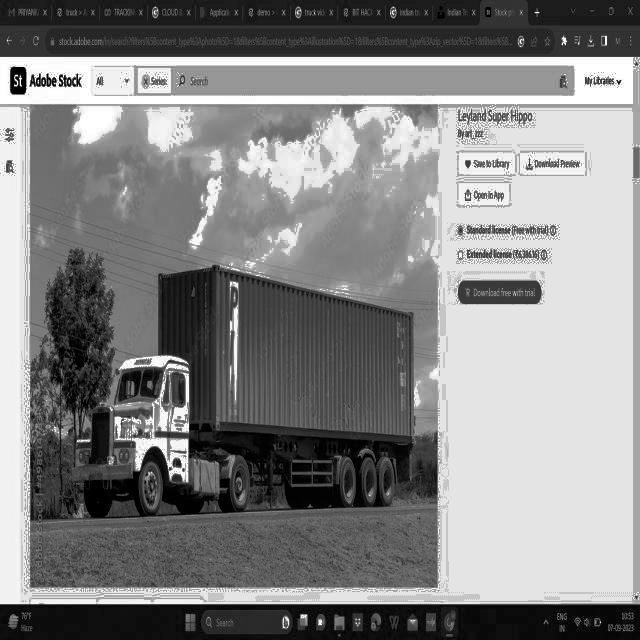HCV: (67, 188, 419, 524)
